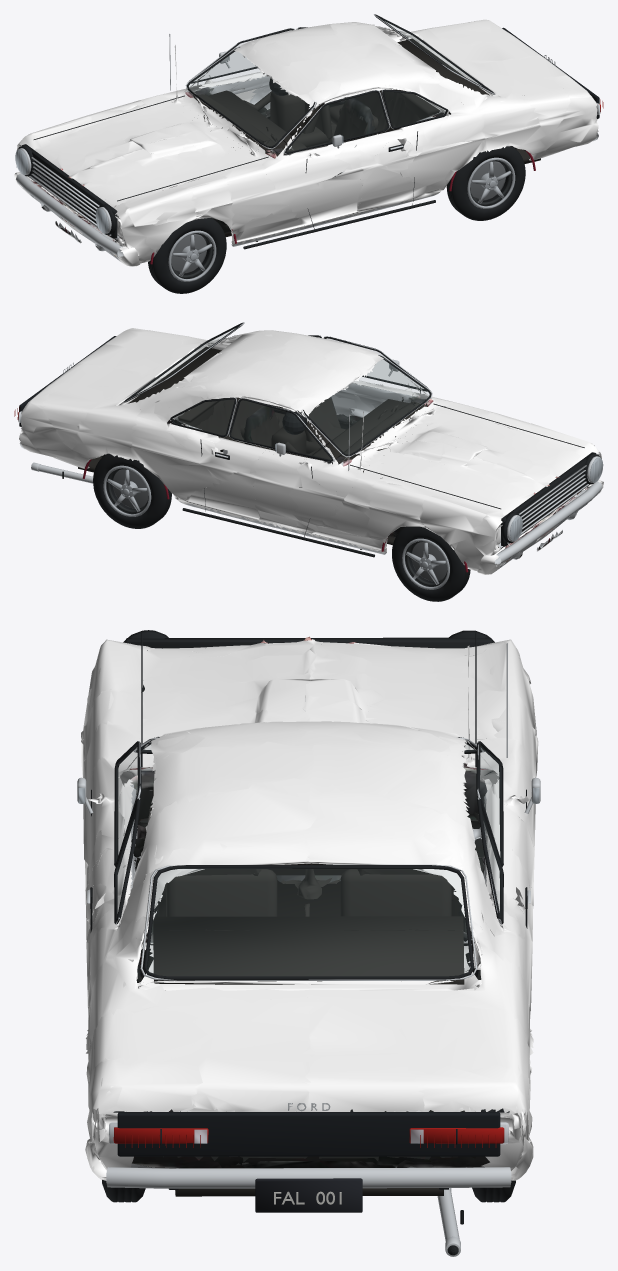
Rendered from falcon-lod1.glb.
3 views of the same model, one above another, from view 1: azimuth 30°, elevation 25°; view 2: azimuth 150°, elevation 25°; view 3: azimuth 270°, elevation 25° (orthographic). The views are drawn at different scales.
Visible parts, largest first — view 1: falcon_Body_paint, falcon_static_Vehicle_Glass, falcon_Hood_paint, falcon_static_Vehicle_Interior, falcon_static_Vehicle_Rubber, falcon_static_Vehicle_Chrome, falcon_Wheel_rearRight_RadialTire, falcon_Wheel_frontRight_RadialTire, falcon_Body_trim, falcon_CabinSeats_Vehicle_Interior, falcon_wheel_frontRight_Vehicle_WheelMetal, falcon_wheel_rearRight_Vehicle_WheelMetal (+3 smaller); view 2: falcon_Body_paint, falcon_static_Vehicle_Glass, falcon_Hood_paint, falcon_static_Vehicle_Interior, falcon_static_Vehicle_Chrome, falcon_static_Vehicle_Rubber, falcon_Wheel_rearLeft_RadialTire, falcon_Wheel_frontLeft_RadialTire, falcon_Body_trim, falcon_wheel_rearLeft_Vehicle_WheelMetal, falcon_wheel_frontLeft_Vehicle_WheelMetal, falcon_CabinSeats_Vehicle_Interior (+3 smaller); view 3: falcon_Body_paint, falcon_static_Vehicle_Glass, falcon_static_Vehicle_Interior, falcon_Hood_paint, falcon_static_Vehicle_SatinStripe, falcon_static_Vehicle_Rubber, falcon_static_Vehicle_Chrome, falcon_CabinSeats_Vehicle_Interior, falcon_Body_trim, falcon_Plate, falcon_static_Vehicle_BrakeLens.
Boxes of the visible parts, x1,y1,x2,y2 form: falcon_Body_paint: (14, 19, 598, 266); falcon_static_Vehicle_Glass: (189, 20, 483, 150); falcon_Hood_paint: (77, 45, 262, 191); falcon_static_Vehicle_Interior: (193, 38, 540, 236); falcon_static_Vehicle_Rubber: (18, 14, 494, 249); falcon_static_Vehicle_Chrome: (16, 14, 600, 261); falcon_Wheel_rearRight_RadialTire: (446, 146, 525, 220); falcon_Wheel_frontRight_RadialTire: (148, 218, 226, 293); falcon_Body_trim: (31, 87, 525, 255); falcon_CabinSeats_Vehicle_Interior: (291, 98, 433, 147); falcon_wheel_frontRight_Vehicle_WheelMetal: (168, 230, 216, 281); falcon_wheel_rearRight_Vehicle_WheelMetal: (467, 157, 515, 208); falcon_Body_paint: (19, 328, 603, 574); falcon_static_Vehicle_Glass: (135, 328, 428, 459); falcon_Hood_paint: (359, 408, 541, 498); falcon_static_Vehicle_Interior: (78, 346, 427, 544); falcon_static_Vehicle_Chrome: (18, 322, 602, 570); falcon_static_Vehicle_Rubber: (62, 322, 600, 557); falcon_Wheel_rearLeft_RadialTire: (93, 453, 171, 528); falcon_Wheel_frontLeft_RadialTire: (392, 526, 470, 601); falcon_Body_trim: (92, 395, 589, 566); falcon_wheel_rearLeft_Vehicle_WheelMetal: (103, 465, 151, 516); falcon_wheel_frontLeft_Vehicle_WheelMetal: (402, 538, 449, 589); falcon_CabinSeats_Vehicle_Interior: (185, 399, 346, 454); falcon_Body_paint: (81, 639, 538, 1180); falcon_static_Vehicle_Glass: (117, 745, 500, 975); falcon_static_Vehicle_Interior: (151, 767, 465, 1196); falcon_Hood_paint: (136, 645, 484, 769); falcon_static_Vehicle_SatinStripe: (117, 1112, 500, 1156); falcon_static_Vehicle_Rubber: (90, 630, 527, 1255); falcon_static_Vehicle_Chrome: (85, 737, 532, 1241); falcon_CabinSeats_Vehicle_Interior: (166, 869, 451, 916); falcon_Body_trim: (130, 636, 493, 1168); falcon_Plate: (255, 1178, 362, 1212); falcon_static_Vehicle_BrakeLens: (113, 1127, 504, 1147).
Bounding box in the file's own units: 1.91 × 0.6164 × 0.771.
16 materials, 1 textured.
